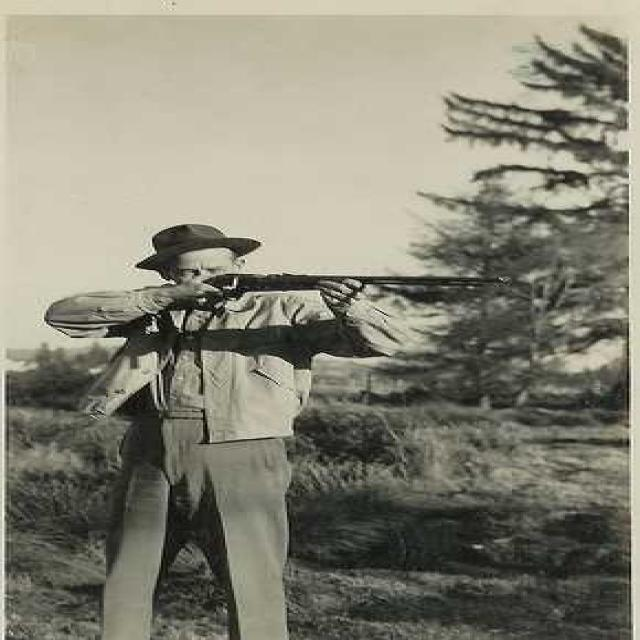heavyweapon: (154, 247, 549, 327)
